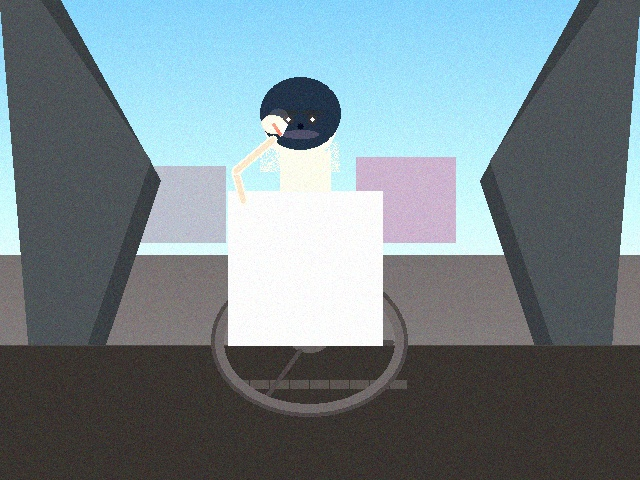smoking: (263, 109, 295, 139)
